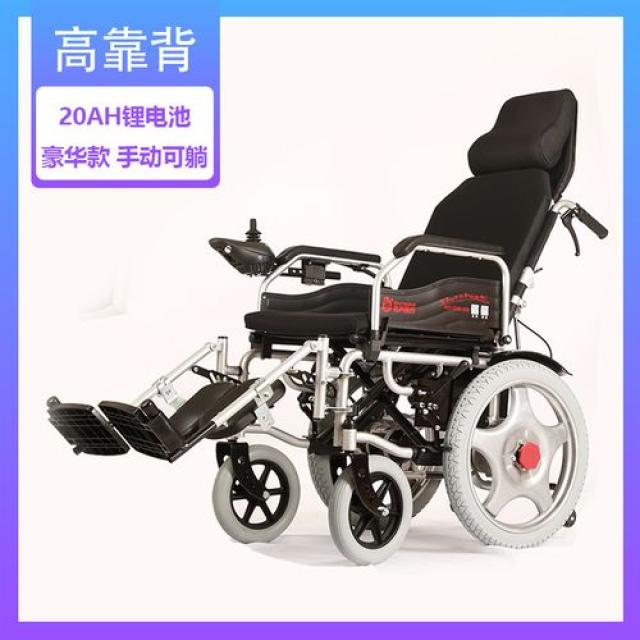wheelchairs: (45, 90, 610, 578)
